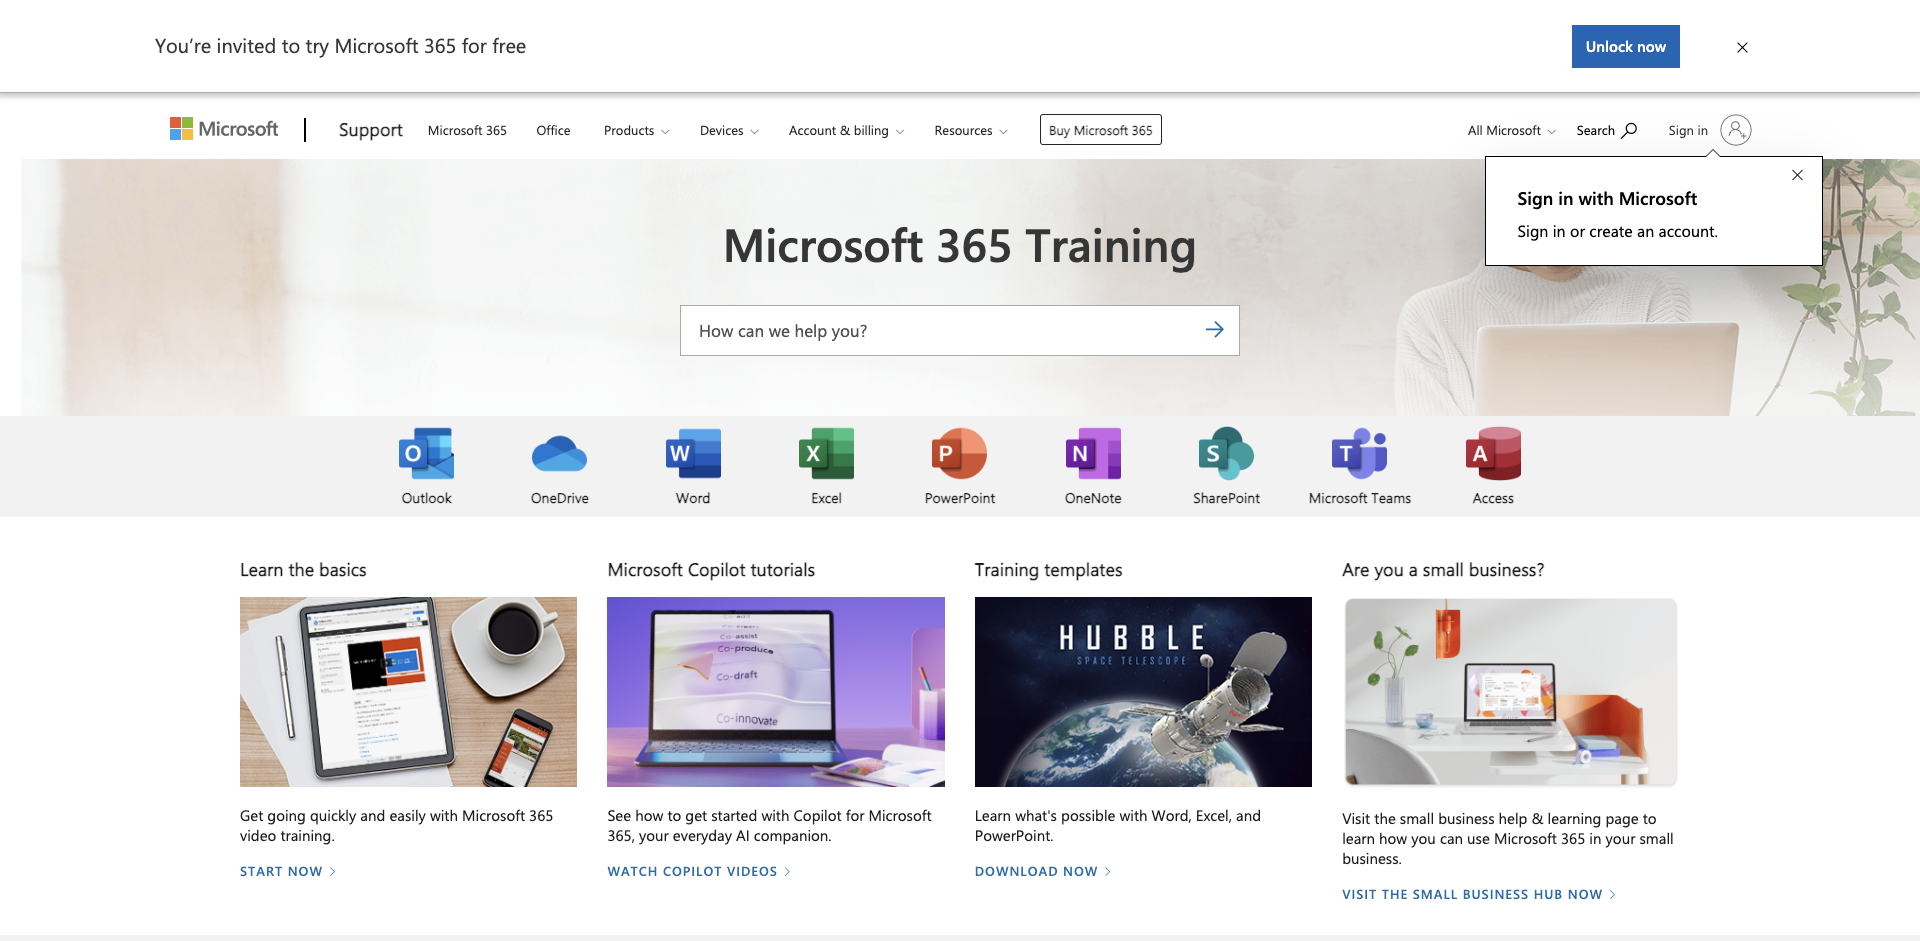button: (773, 104, 920, 156), (1452, 104, 1566, 156), (917, 104, 1024, 156), (587, 104, 686, 156), (683, 104, 775, 156), (1567, 107, 1646, 151), (1190, 305, 1240, 355)
input: (680, 305, 1240, 355)
link: (360, 415, 493, 517), (493, 415, 627, 517), (627, 415, 760, 517), (760, 415, 894, 517), (1026, 415, 1160, 517), (1160, 415, 1293, 517), (1293, 415, 1427, 517), (1427, 415, 1560, 517), (894, 415, 1026, 517), (160, 1, 298, 55), (1342, 885, 1618, 903), (1657, 107, 1760, 154), (419, 104, 516, 152), (329, 104, 413, 158), (607, 861, 792, 880), (975, 861, 1113, 880), (528, 104, 579, 152), (240, 861, 338, 880), (1790, 167, 1805, 186)
menu_item: (773, 103, 913, 156), (917, 103, 1018, 156), (415, 103, 520, 152), (587, 103, 680, 156), (683, 103, 769, 156), (524, 103, 583, 152)
